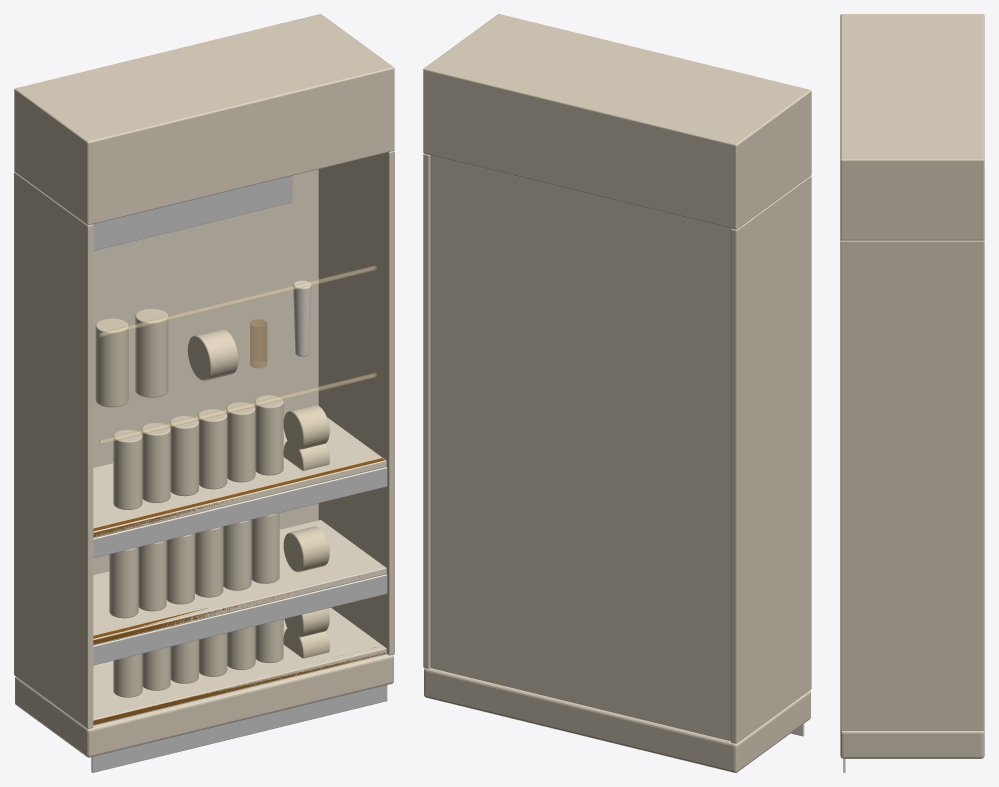
Rendered from rack.obj.
3 renders of one model, left to right at view 1: azimuth 30°, elevation 25°; view 2: azimuth 150°, elevation 25°; view 3: azimuth 270°, elevation 25°, orthographic. The views are drawn at different scales.
Parts seen in each view (by area): view 1: crown.arch, side.panel_1, back.panel, side.panel_2, base.plinth, shelf.deck_2, shelf.deck_3, shelf.deck.low, shelf.talker_2, shelf.talker_3, header.graphic, shelf.talker_1 (+33 smaller); view 2: back.panel, crown.arch, side.panel_1, base.plinth, side.panel_2; view 3: side.panel_2, crown.arch, base.plinth.
Boxes of the visible parts, box(x1,y1,x2,y2) form: crown.arch: box(14, 14, 394, 225); side.panel_1: box(14, 172, 93, 728); back.panel: box(93, 169, 318, 645); side.panel_2: box(318, 151, 394, 655); base.plinth: box(15, 654, 393, 757); shelf.deck_2: box(93, 520, 386, 645); shelf.deck_3: box(93, 417, 386, 537); shelf.deck.low: box(93, 607, 386, 725); shelf.talker_2: box(93, 574, 387, 665); shelf.talker_3: box(93, 467, 387, 557); header.graphic: box(93, 175, 292, 250); shelf.talker_1: box(91, 685, 387, 772); back.panel: box(430, 155, 730, 741); crown.arch: box(423, 14, 811, 229); side.panel_1: box(731, 175, 811, 743); base.plinth: box(424, 667, 810, 772); side.panel_2: box(423, 153, 430, 668); side.panel_2: box(840, 239, 984, 730); crown.arch: box(840, 14, 984, 240); base.plinth: box(840, 730, 984, 758).
Size of the model in its own units: 0.9144 by 1.8 by 0.381.
